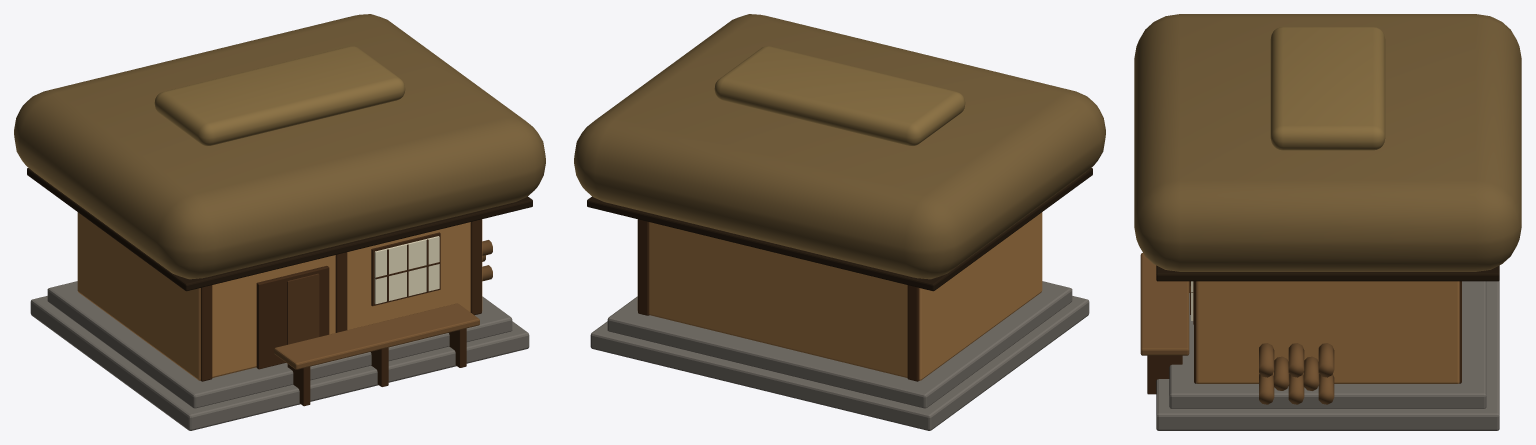
File: choga.glb
The picture shows the model from 3 angles, left to right: view 1: azimuth 30°, elevation 25°; view 2: azimuth 150°, elevation 25°; view 3: azimuth 270°, elevation 25°; orthographic projection. The views are drawn at different scales.
Visible parts, largest first — view 1: Cube.009, Cube.002, Cube.010, Cube, Cube.001, Cube.019, Cube.008, Cube.011, Cube.013, Cube.012, Cube.003, Cube.005 (+5 smaller); view 2: Cube.009, Cube.002, Cube.010, Cube.001, Cube, Cube.008, Cube.006, Cube.007; view 3: Cube.009, Cube.002, Cube.010, Cube.001, Cube, Cube.019, Cube.008, Cube.022, Cone.006, Cone.007, Cone.004, Cone.005 (+4 smaller).
Part boxes in pixels (x1,y1,x2,y2): Cube.009: (14,14,545,279); Cube.002: (77,212,482,380); Cube.010: (154,46,405,145); Cube: (30,296,529,430); Cube.001: (47,281,512,408); Cube.019: (274,303,479,369); Cube.008: (27,168,532,291); Cube.011: (256,266,329,369); Cube.013: (374,236,439,304); Cube.012: (287,273,319,344); Cube.003: (200,285,212,381); Cube.005: (470,219,481,315); Cube.009: (574,14,1105,279); Cube.002: (637,212,1042,380); Cube.010: (714,46,965,145); Cube.001: (607,281,1072,408); Cube: (590,296,1089,430); Cube.008: (587,168,1092,291); Cube.006: (907,285,919,381); Cube.007: (638,219,649,315); Cube.009: (1134,14,1521,271); Cube.002: (1196,281,1459,383); Cube.010: (1270,27,1385,150); Cube.001: (1169,281,1486,408); Cube: (1156,280,1499,430); Cube.019: (1140,253,1189,355); Cube.008: (1156,265,1499,281); Cube.022: (1147,355,1182,394); Cone.006: (1288,343,1304,377); Cone.007: (1318,343,1334,377); Cone.004: (1303,356,1319,390); Cone.005: (1259,343,1274,377).
Size of the model in its own units: 5.4 by 3.33 by 4.4.
